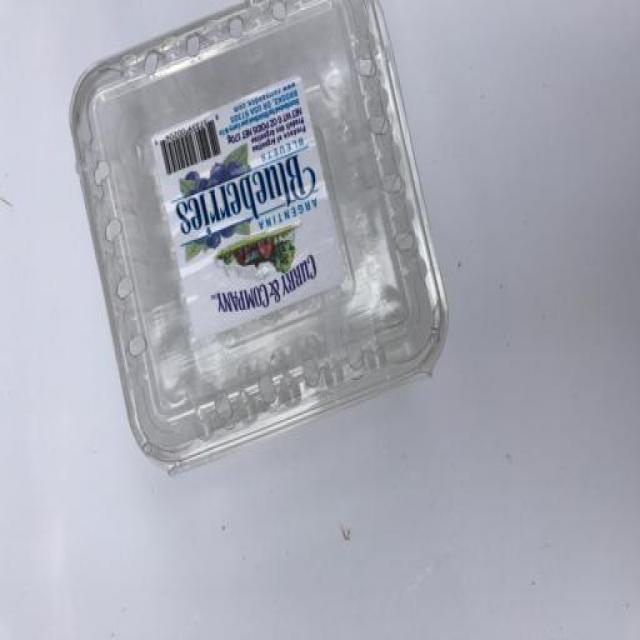plastic: (51, 1, 477, 506)
